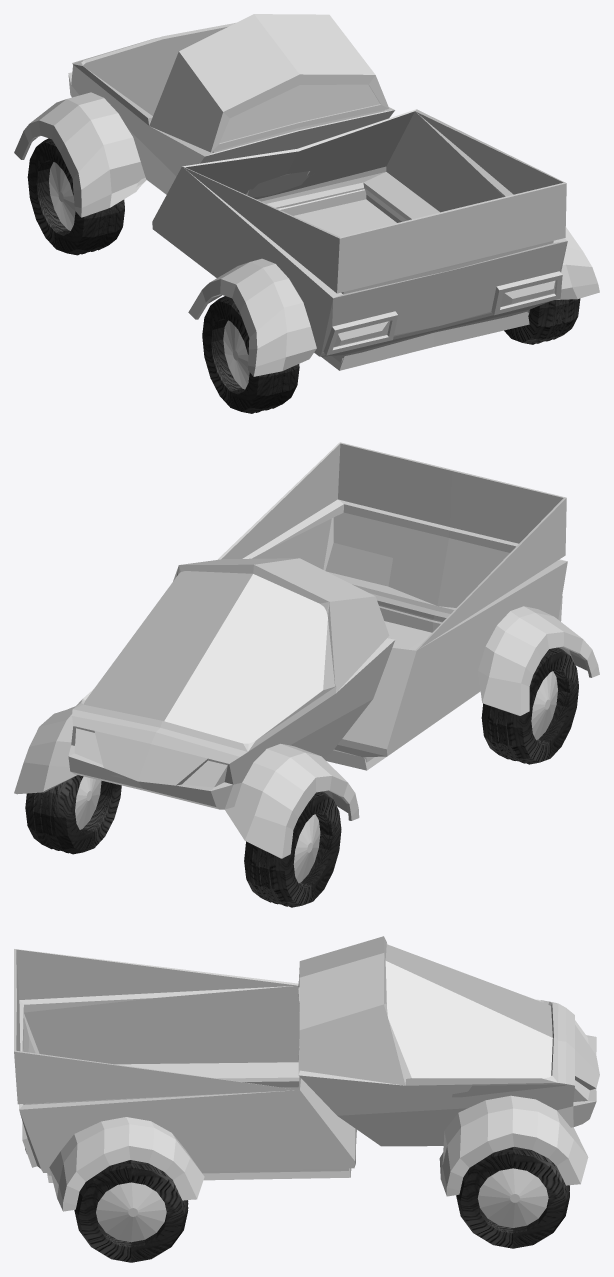
The model's file is truck blender updated.fbx.
3 renders of one model, top to bottom at view 1: azimuth 30°, elevation 25°; view 2: azimuth 150°, elevation 25°; view 3: azimuth 270°, elevation 25°, orthographic. The views are drawn at different scales.
Parts seen in each view (by area): view 1: truck, wheel.p.004, wheel.p.001, wheel.p.003; view 2: truck, wheel.p.004, wheel.p.001, wheel.p.002; view 3: truck, wheel.p.003, wheel.p.002.
Boxes of the visible parts, left/top/right/bottom form: truck: left=14, top=14, right=599, bottom=376; wheel.p.004: left=202, top=296, right=299, bottom=413; wheel.p.001: left=27, top=138, right=124, bottom=255; wheel.p.003: left=504, top=298, right=580, bottom=344; truck: left=14, top=442, right=599, bottom=858; wheel.p.004: left=481, top=647, right=578, bottom=764; wheel.p.001: left=244, top=791, right=341, bottom=907; wheel.p.002: left=25, top=775, right=121, bottom=854; truck: left=14, top=936, right=599, bottom=1211; wheel.p.003: left=74, top=1160, right=188, bottom=1262; wheel.p.002: left=456, top=1147, right=569, bottom=1248.
Size of the model in its own units: 309 by 221 by 487.
Materials: 6 (1 with a texture image).
